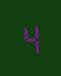four: (19, 21, 40, 55)
